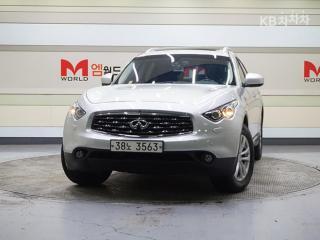3: (153, 142, 159, 152), (115, 141, 120, 151), (136, 142, 141, 151)
5: (141, 142, 147, 151)
6: (146, 142, 153, 151)
8: (120, 141, 126, 151)
노: (126, 141, 133, 152)
